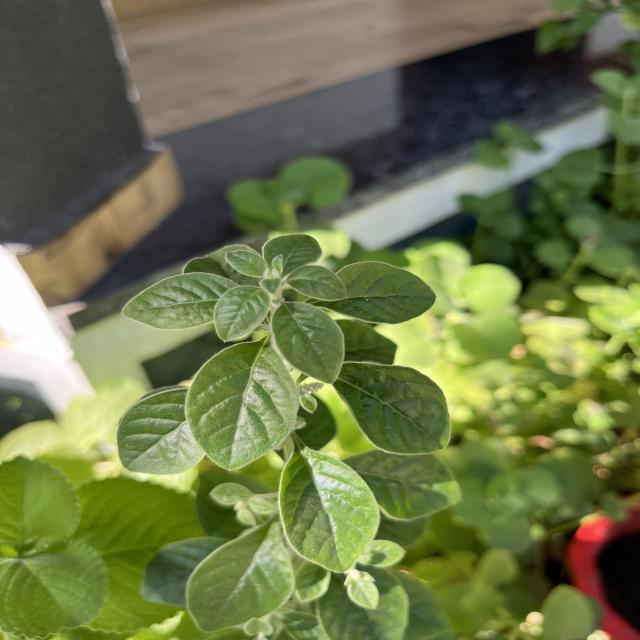Aerva lanata: (180, 337, 304, 475), (274, 434, 384, 577), (332, 362, 454, 458), (114, 385, 208, 478), (320, 258, 440, 326), (118, 270, 240, 332)
